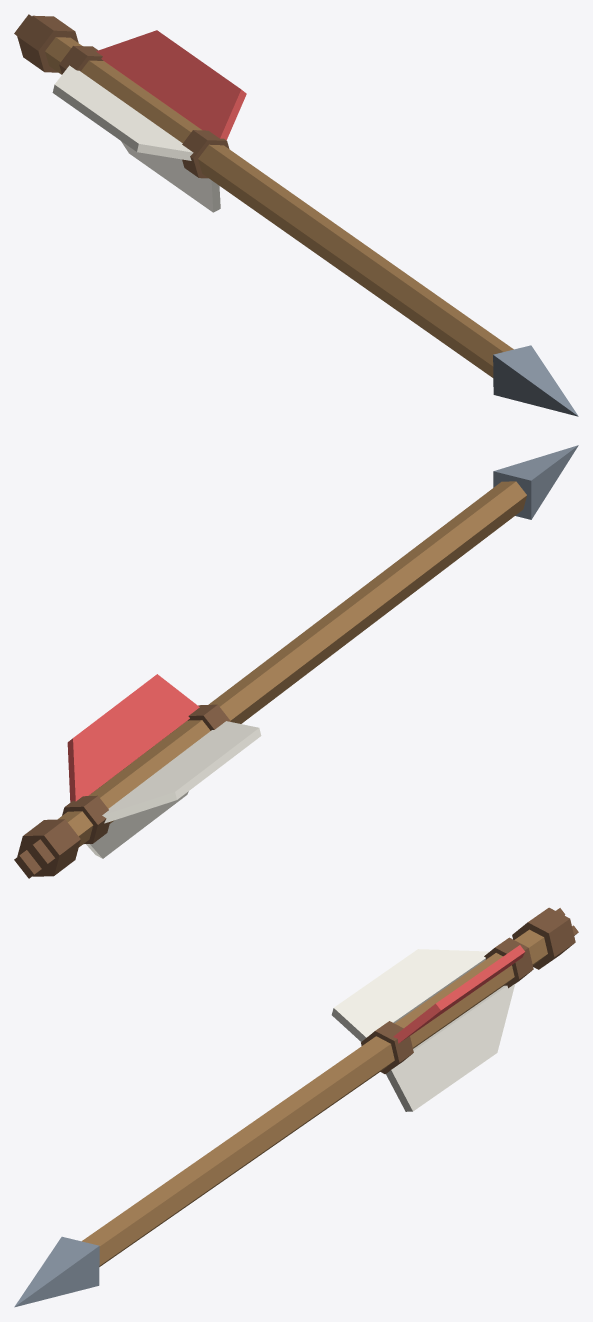
The model's file is archer_arrow.glb.
The picture shows the model from 3 angles, top to bottom: view 1: azimuth 30°, elevation 25°; view 2: azimuth 150°, elevation 25°; view 3: azimuth 330°, elevation 25°; orthographic projection.
Visible parts, largest first — view 1: Arrow; view 2: Arrow; view 3: Arrow.
Boxes of the visible parts, box(x1,y1,x2,y2) form: Arrow: box(14, 14, 578, 416); Arrow: box(14, 445, 578, 878); Arrow: box(14, 907, 578, 1307).
Size of the model in its own units: 0.0573 by 0.0586 by 0.4941.
